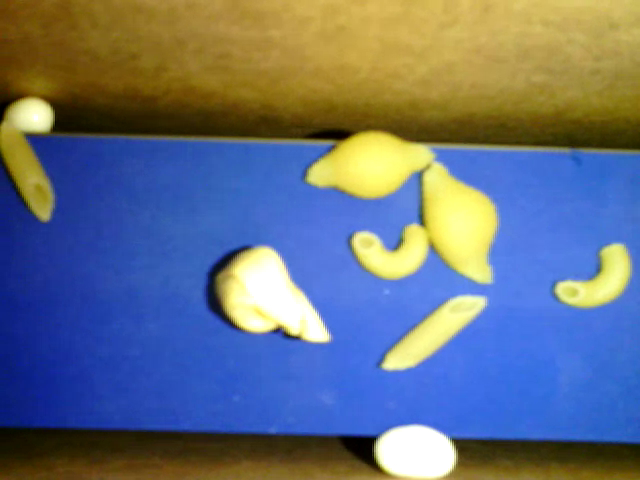elbow: (553, 242, 632, 308), (350, 223, 429, 280)
penne: (379, 293, 488, 371), (1, 119, 56, 222)
shell: (305, 129, 433, 200), (421, 161, 495, 282)
tortellini: (215, 245, 331, 342)
